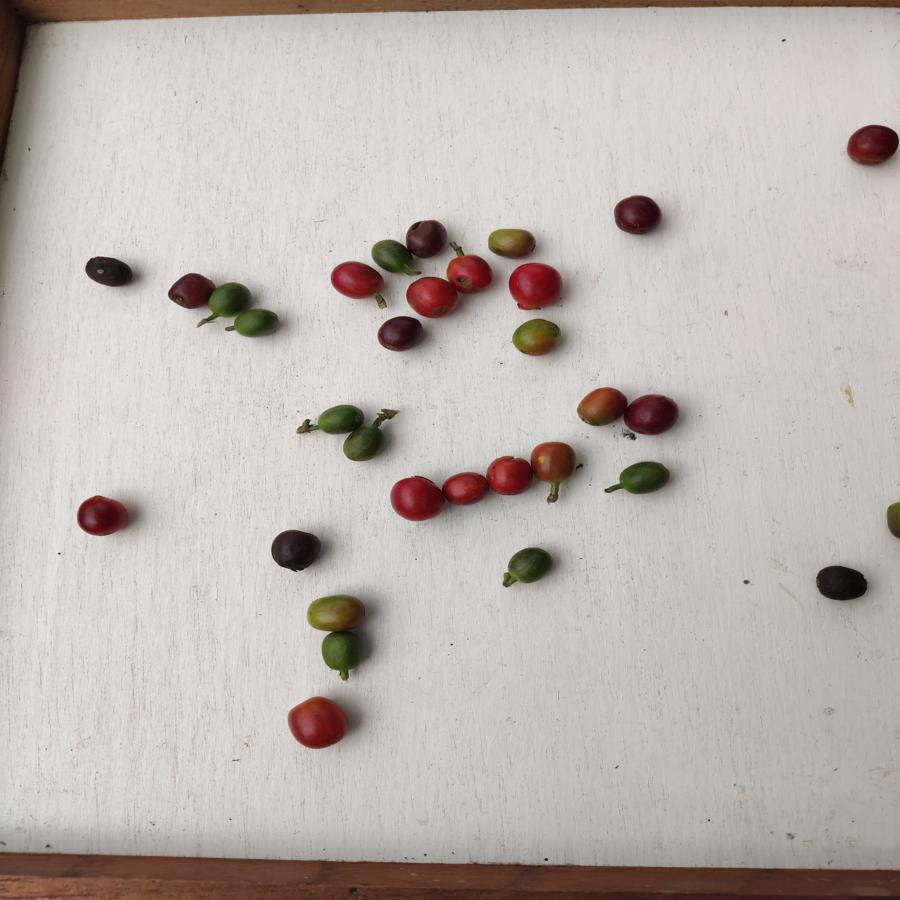Inmaduro: (320, 632, 368, 676), (618, 458, 670, 498), (341, 423, 386, 462), (505, 547, 553, 583), (208, 280, 255, 316), (369, 238, 414, 275), (233, 306, 279, 341), (314, 404, 365, 432)
Maduro: (285, 696, 351, 753), (389, 472, 449, 522), (506, 260, 564, 309), (68, 494, 134, 535), (402, 276, 461, 320), (331, 262, 385, 302), (487, 453, 536, 496), (444, 254, 497, 292), (442, 467, 483, 506)
Pinton: (301, 590, 371, 633), (509, 315, 564, 361), (575, 386, 627, 429), (529, 441, 579, 482), (487, 227, 538, 256)
Sobremaduro: (268, 527, 324, 572), (848, 119, 899, 166), (624, 392, 678, 435), (612, 191, 664, 235), (376, 313, 427, 355), (812, 565, 869, 600), (82, 254, 136, 289), (166, 270, 207, 311), (406, 218, 444, 258)
